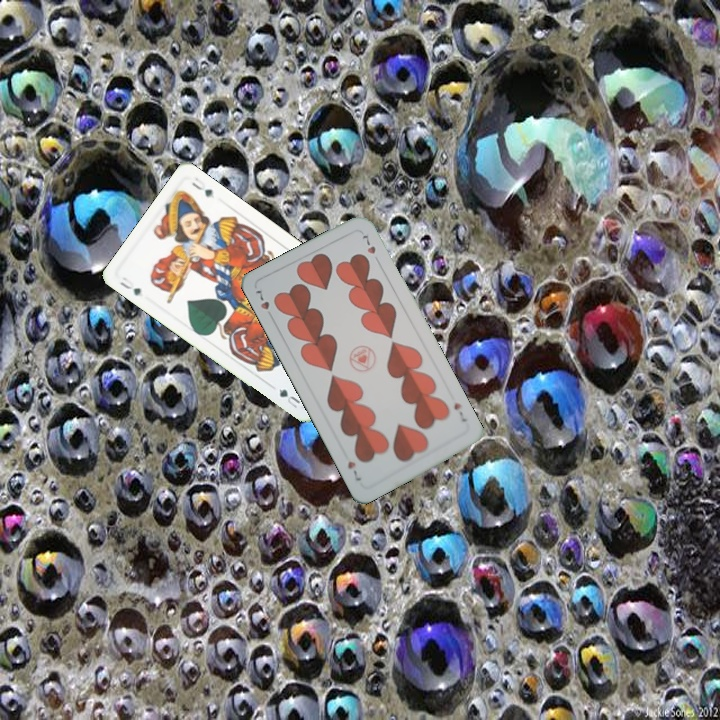GU: (116, 273, 144, 298)
H7: (252, 286, 272, 312), (450, 399, 470, 424)
